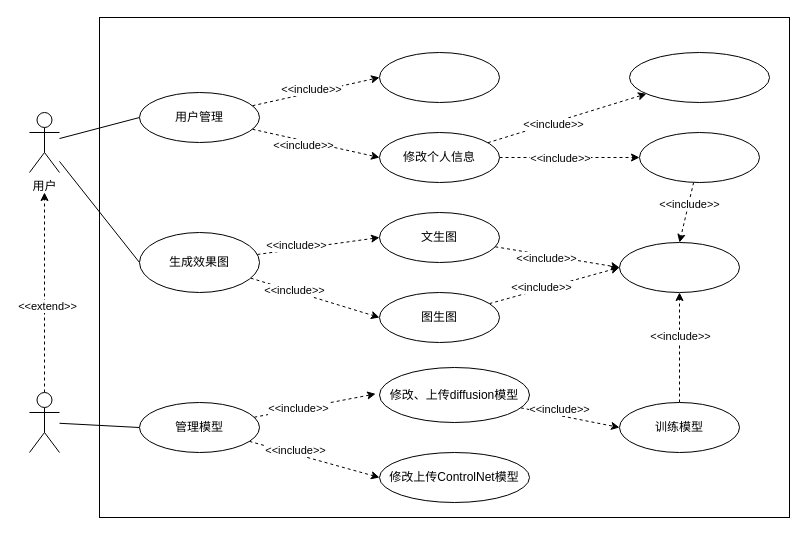
Some shapes in this 807 by 535 pixel diagram are drawn without their labels. Each missing label, with the centre of its shape:
"任务调度" belongs at [679,267].
"修改保存的prompt" belongs at [699,77].
"登录、注册" belongs at [439,77].
"管理员" belongs at [44,422].
"训练个人LoRA" belongs at [699,157].
